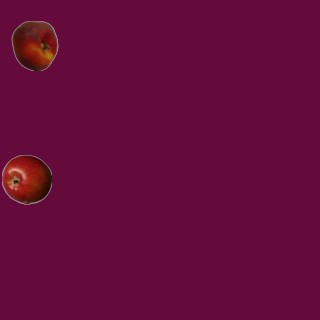Apple Braeburn: (1, 154, 51, 204)
Nectarine Flat: (9, 20, 59, 70)
